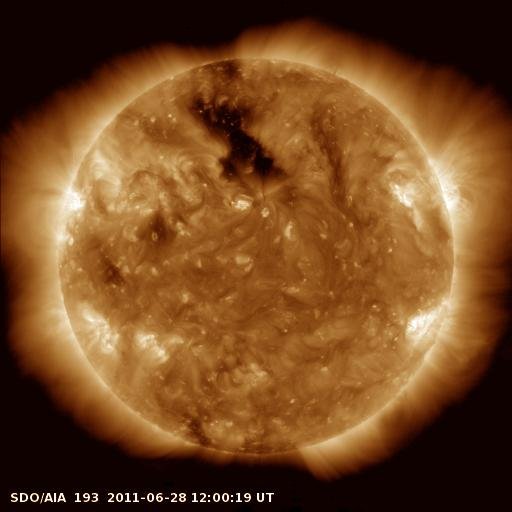coronal_hole: (187, 90, 299, 192)
